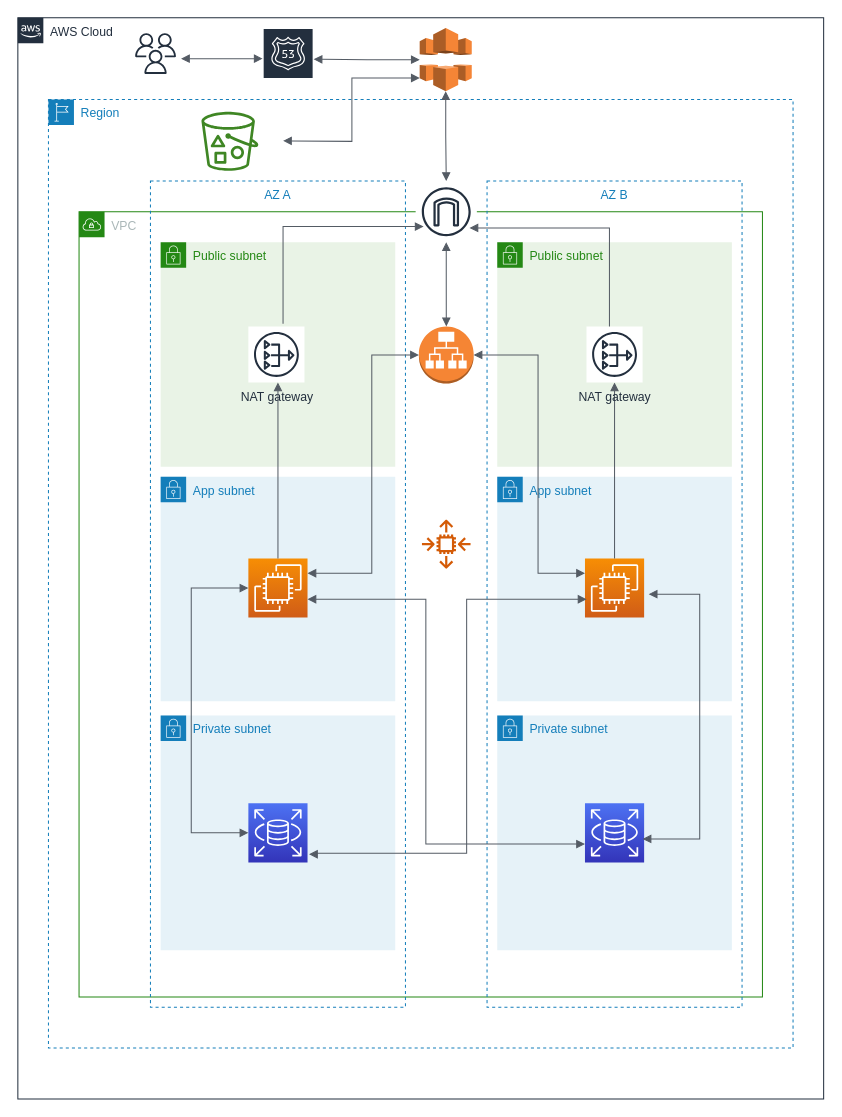
This 842x1117 diagram has some shape labels left out. The shapes that lost their labels are listed below. From the top down, each one's centre as x and y in pixels, then its label:
At pixel 155 53: "Users".
At pixel 288 69: "Amazon Route 53".
At pixel 446 211: "Internet gateway".
